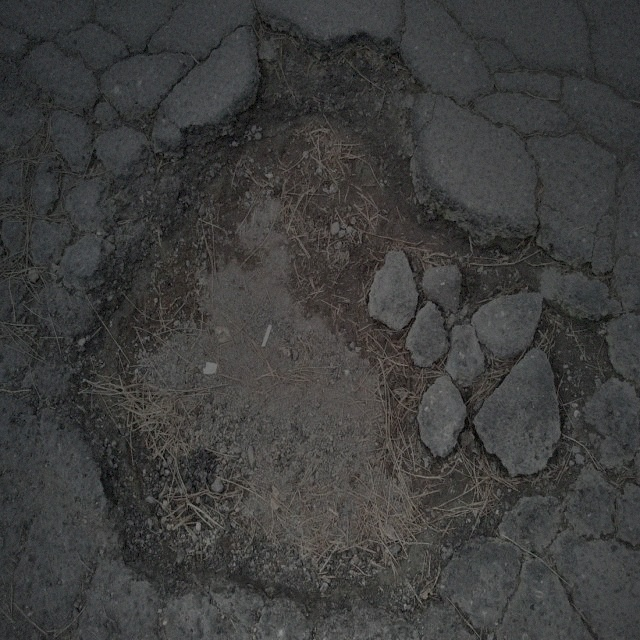pothole: (66, 22, 604, 587)
